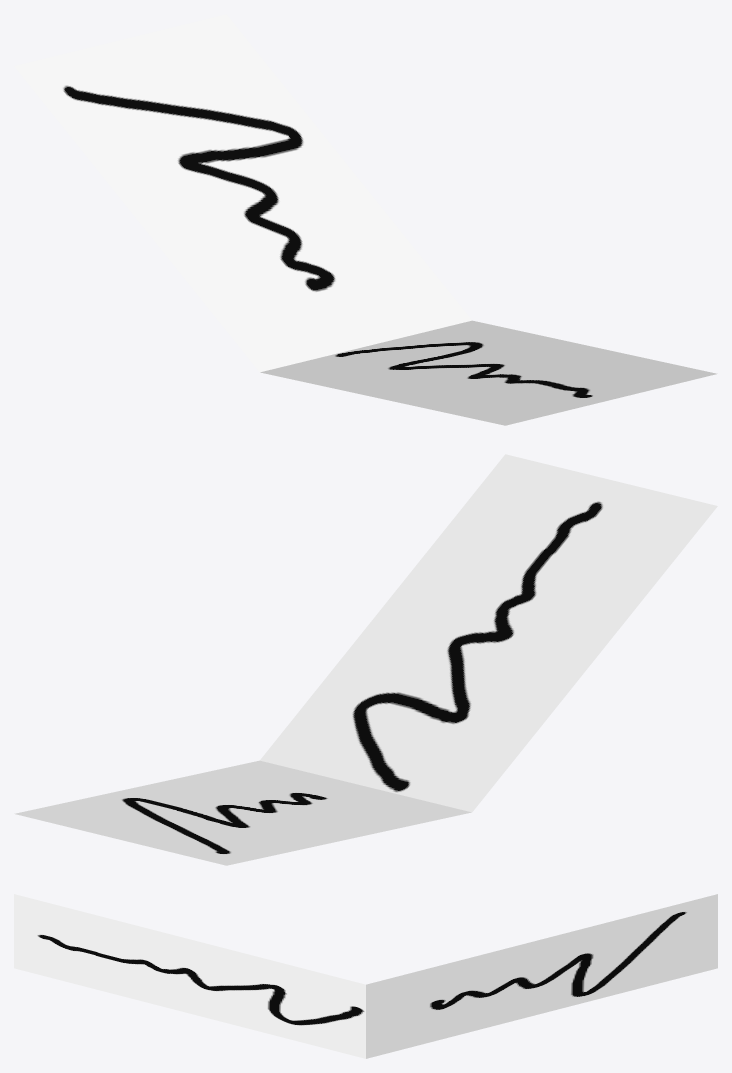
The model's file is Note.glb.
3 views of the same model, one above another, from view 1: azimuth 30°, elevation 25°; view 2: azimuth 150°, elevation 25°; view 3: azimuth 270°, elevation 25° (orthographic). The views are drawn at different scales.
Visible parts, largest first — view 1: Plane; view 2: Plane; view 3: Plane.
Part boxes in pixels (left/top/right/bottom): Plane: left=14, top=14, right=717, bottom=425; Plane: left=14, top=454, right=717, bottom=865; Plane: left=14, top=894, right=717, bottom=1058.
Size of the model in its own units: 0.4996 by 0.2841 by 2.
1 material, 1 textured.
